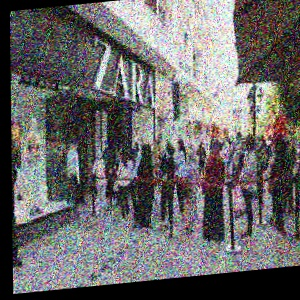zara: (140, 65, 222, 97)
